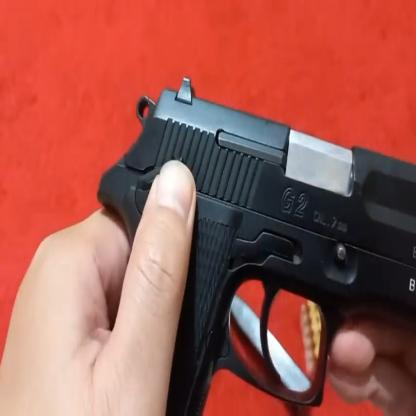handgun: (113, 78, 416, 414)
